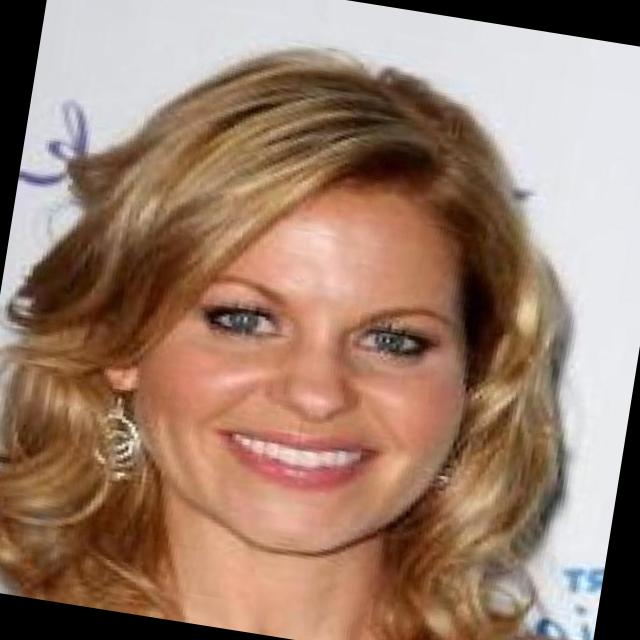bareface: (106, 119, 516, 570)
